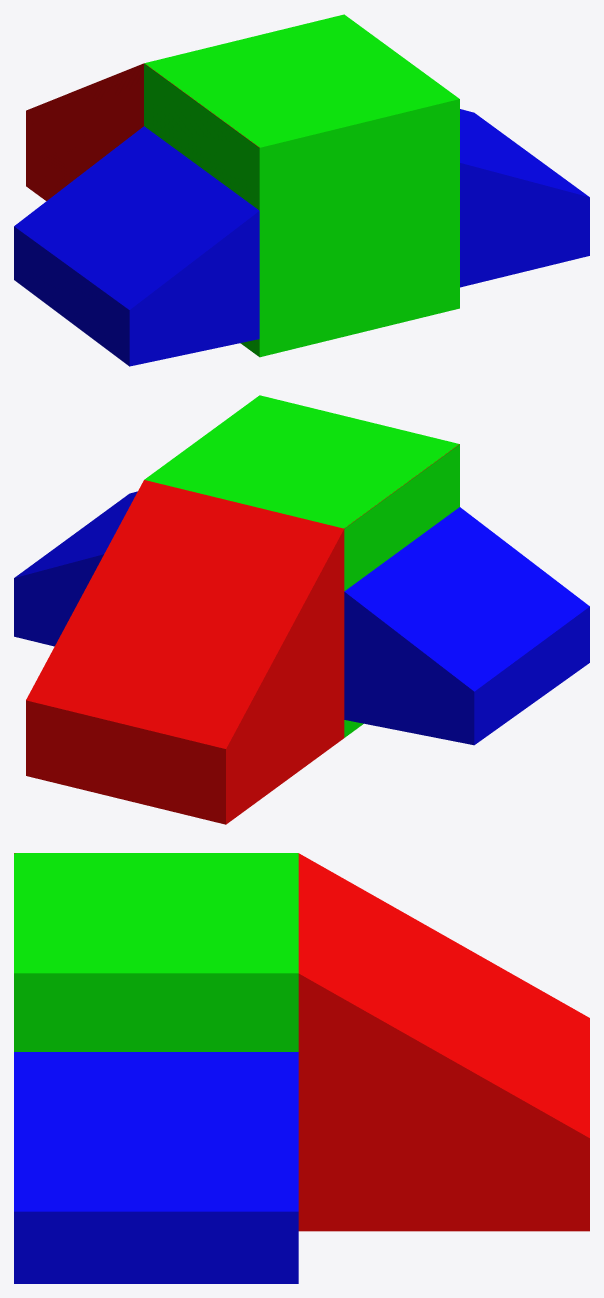
The model's file is Player.fbx.
The picture shows the model from 3 angles, top to bottom: view 1: azimuth 30°, elevation 25°; view 2: azimuth 150°, elevation 25°; view 3: azimuth 270°, elevation 25°; orthographic projection. The views are drawn at different scales.
Parts seen in each view (by area): view 1: Cube; view 2: Cube; view 3: Cube.
Part boxes in pixels (x1,y1,x2,y2): Cube: (14, 14, 589, 366); Cube: (14, 395, 589, 824); Cube: (14, 853, 589, 1283).
Bounding box in the file's own units: 4.6 × 2 × 4.05.
Materials: 1 (1 with a texture image).
